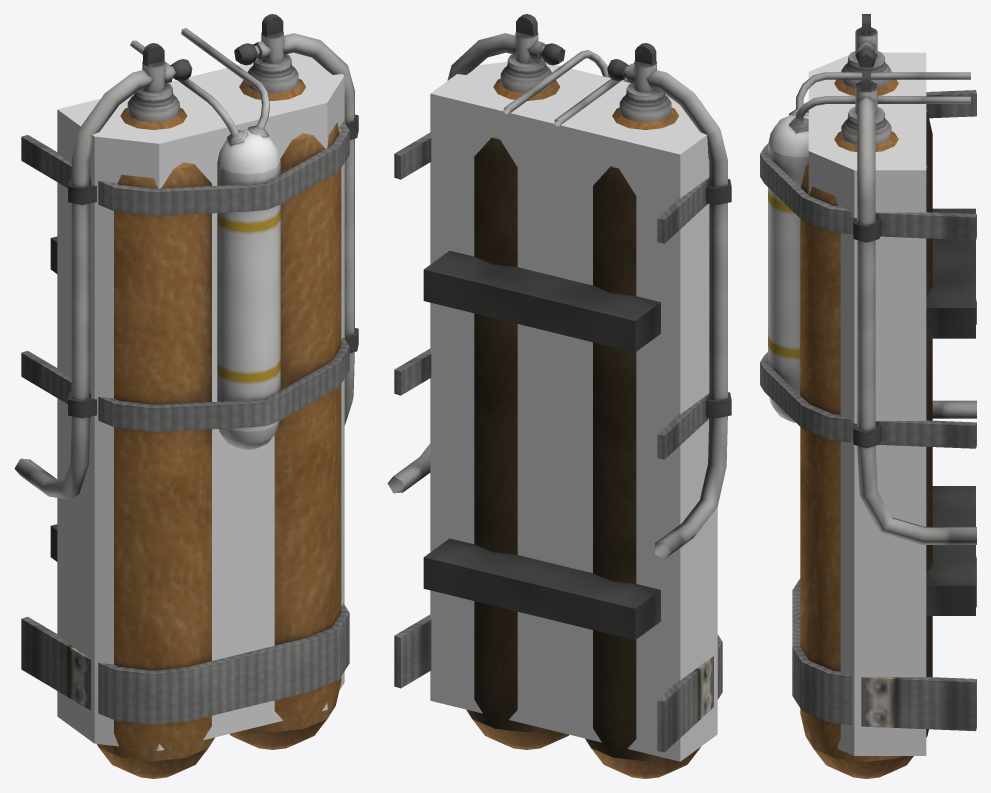
File: LFT_Tri_Sm.FBX
3 views of the same model, side by side, from view 1: azimuth 30°, elevation 25°; view 2: azimuth 150°, elevation 25°; view 3: azimuth 270°, elevation 25° (orthographic). The views are drawn at different scales.
Visible parts, largest first — view 1: LFT_Tri_Sm, LFT_Tri_Sm_Col; view 2: LFT_Tri_Sm_Col, LFT_Tri_Sm; view 3: LFT_Tri_Sm, LFT_Tri_Sm_Col.
Part boxes in pixels (box(x1,y1,x2,y2)): LFT_Tri_Sm: box(14, 14, 358, 778); LFT_Tri_Sm_Col: box(57, 52, 344, 750); LFT_Tri_Sm_Col: box(430, 62, 717, 761); LFT_Tri_Sm: box(387, 14, 731, 778); LFT_Tri_Sm: box(760, 14, 976, 778); LFT_Tri_Sm_Col: box(808, 52, 926, 755).
Size of the model in its own units: 45.67 by 109 by 30.59.
1 material, 1 textured.
